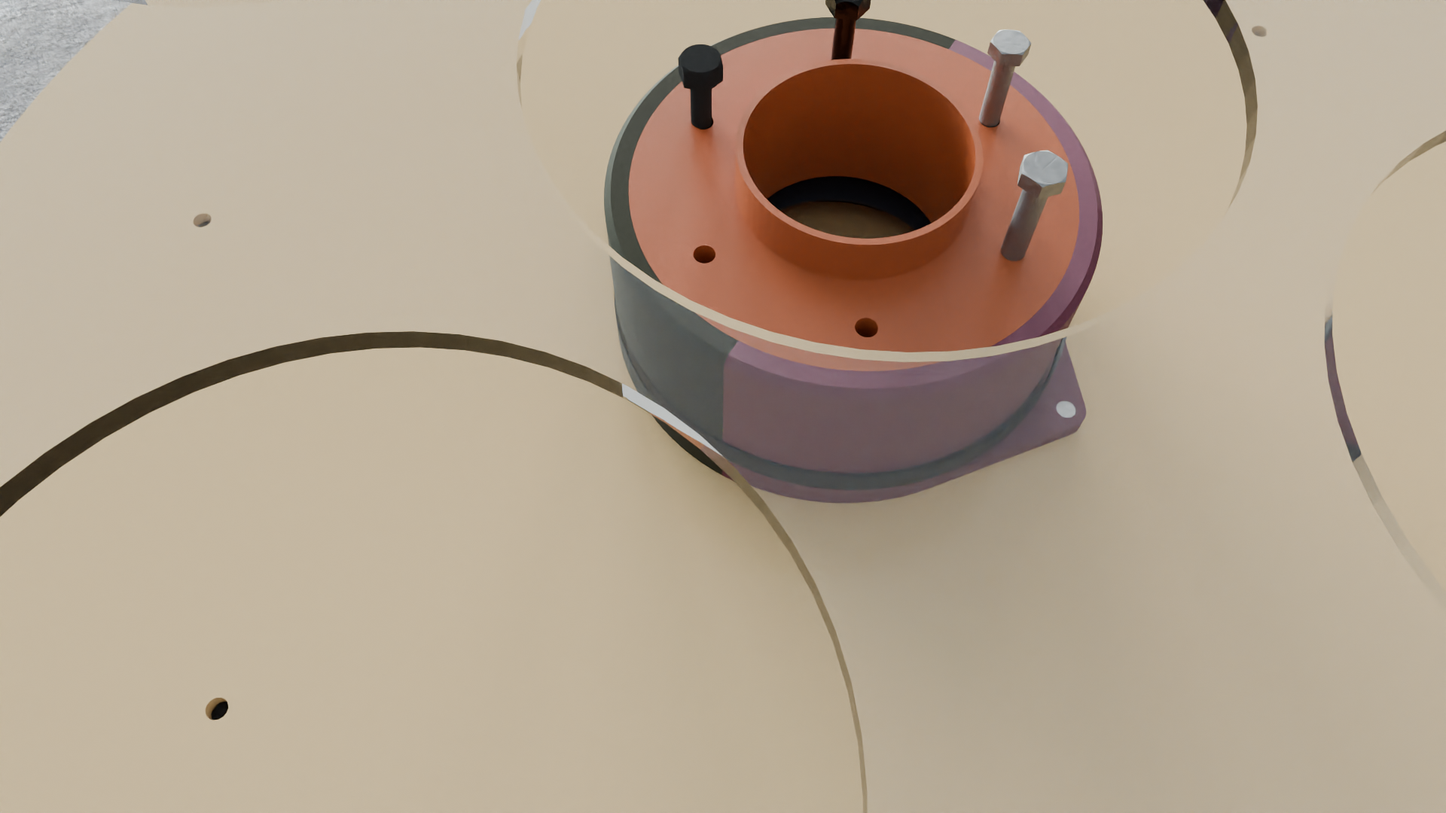bolt: (1021, 150, 1068, 187), (679, 44, 723, 78), (990, 29, 1032, 55), (834, 0, 863, 7)
